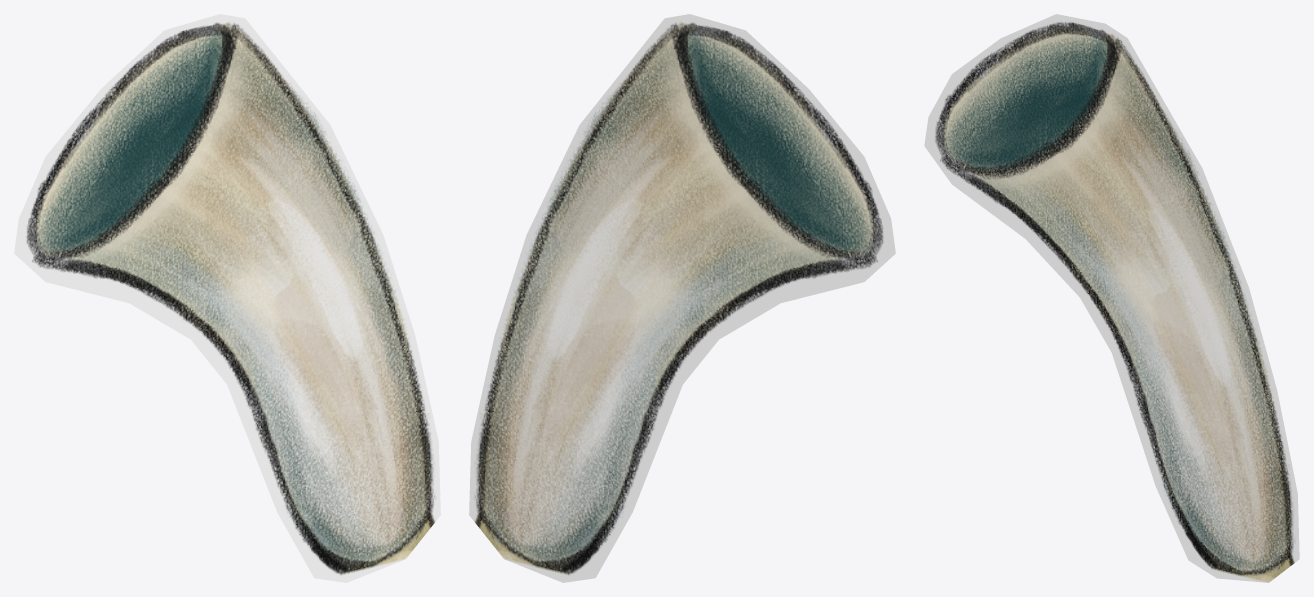
File: mech.glb
3 renders of one model, left to right at view 1: azimuth 30°, elevation 25°; view 2: azimuth 150°, elevation 25°; view 3: azimuth 330°, elevation 25°, orthographic. The views are drawn at different scales.
Parts seen in each view (by area): view 1: Plane.010; view 2: Plane.010; view 3: Plane.010.
Boxes of the visible parts, left/top/right/bottom form: Plane.010: left=14, top=14, right=440, bottom=582; Plane.010: left=469, top=14, right=895, bottom=582; Plane.010: left=924, top=14, right=1299, bottom=582.
Size of the model in its own units: 8 by 10.74 by 0.
1 material, 1 textured.
